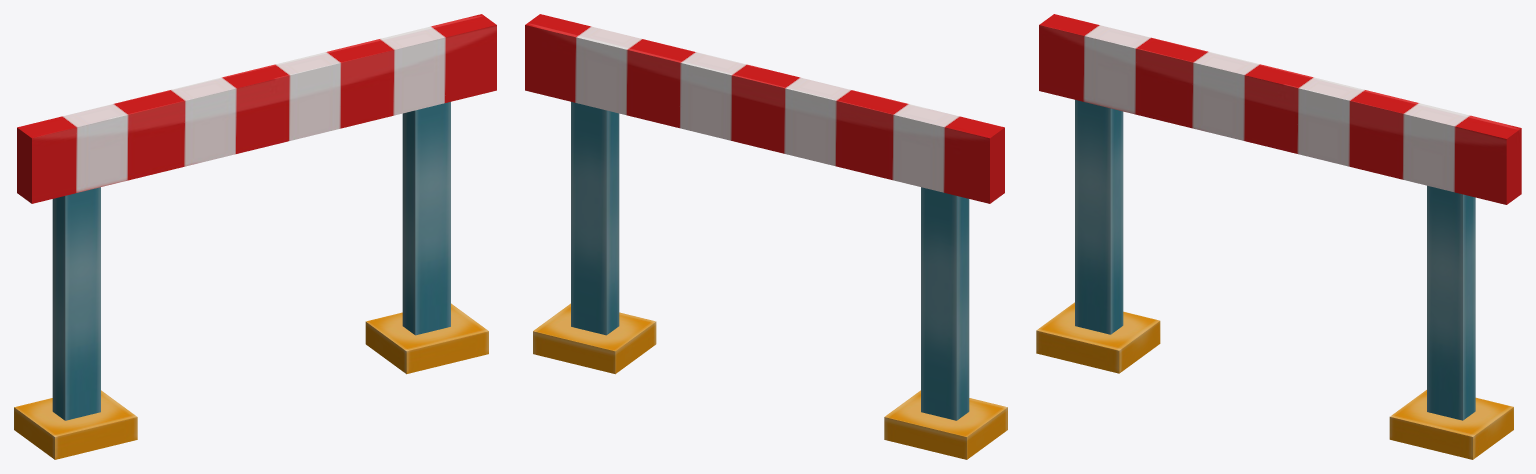
Rendered from jump+slidedown_01.FBX.
3 views of the same model, side by side, from view 1: azimuth 30°, elevation 25°; view 2: azimuth 150°, elevation 25°; view 3: azimuth 330°, elevation 25° (orthographic).
Visible parts, largest first — view 1: SLIDE DOWN_008; view 2: SLIDE DOWN_008; view 3: SLIDE DOWN_008.
Boxes of the visible parts, left/top/right/bottom form: SLIDE DOWN_008: left=14, top=14, right=496, bottom=459; SLIDE DOWN_008: left=525, top=14, right=1007, bottom=459; SLIDE DOWN_008: left=1036, top=14, right=1521, bottom=459.
Size of the model in its own units: 153 by 98.76 by 23.24.
